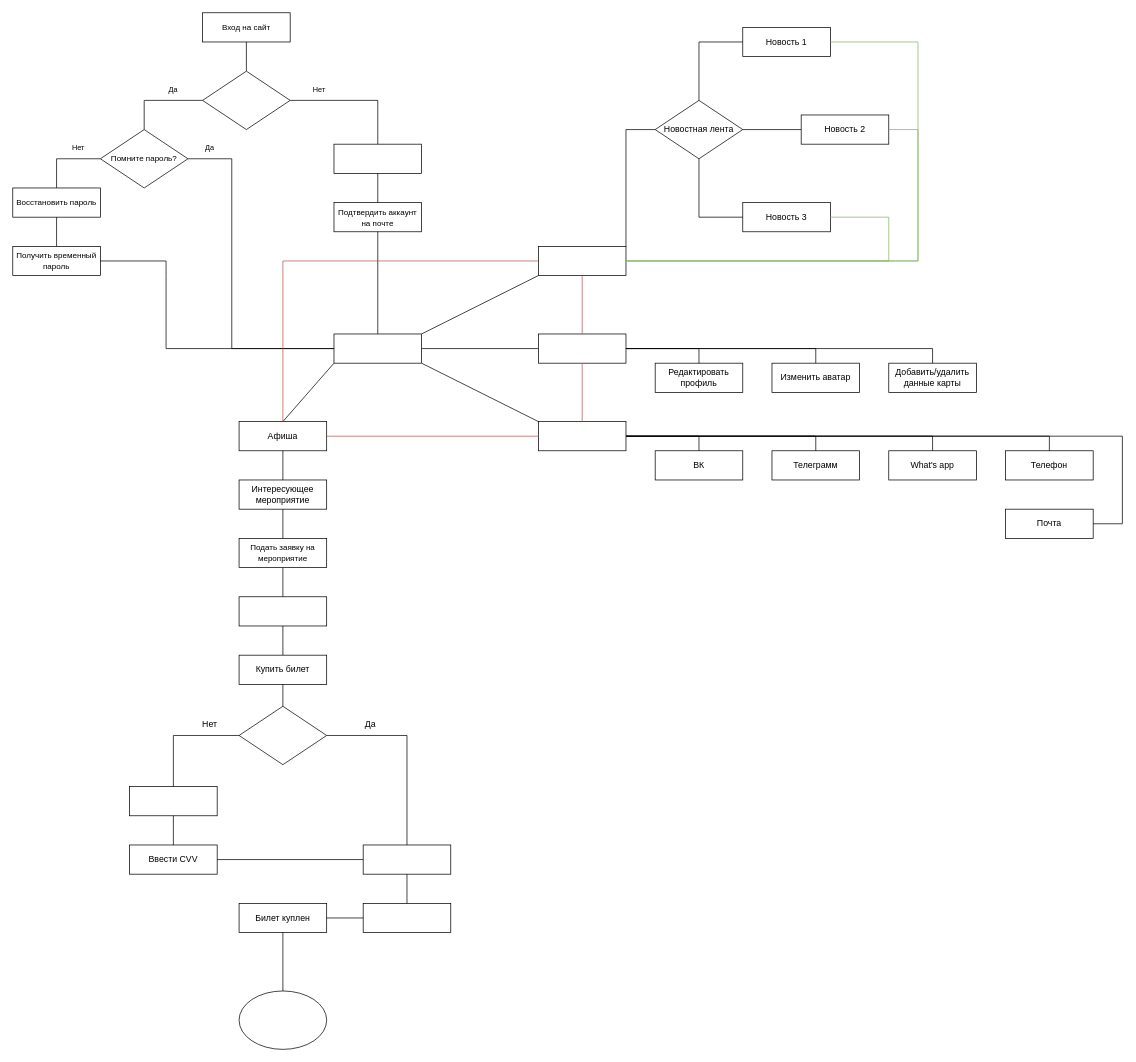
This 1136x1062 diagram has some shape labels left out. The shapes that lost their labels are listed below. From the top down, each one's centre as x and y in pixels, then its label:
[246,100]: Есть аккаунт?
[377,158]: Регистрация
[582,261]: Новости
[377,348]: Вы вошли
[582,348]: Личный кабинет
[582,436]: Контакты
[282,611]: Дождаться одобрения
[282,735]: У вас сохранены данные карты?
[173,801]: Ввести данные карты
[406,859]: Дождаться код подтверждения
[406,918]: Ввести код подтверждения
[282,1019]: Билет получен
